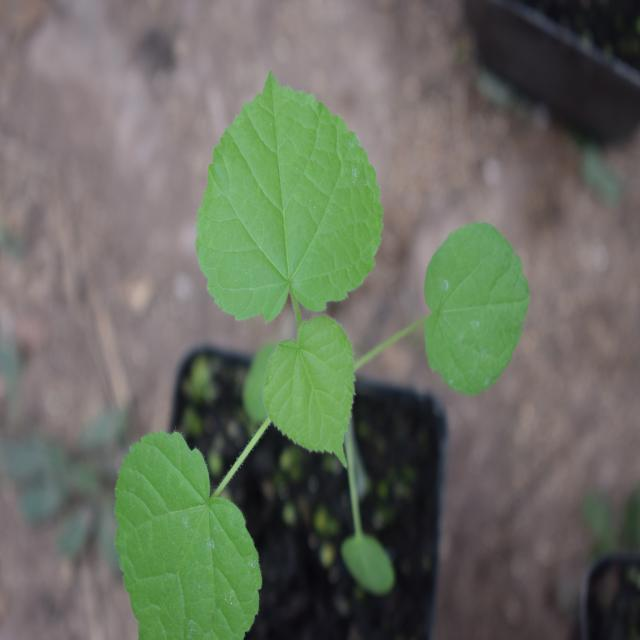abutilon theophrasti: (102, 87, 510, 636)
